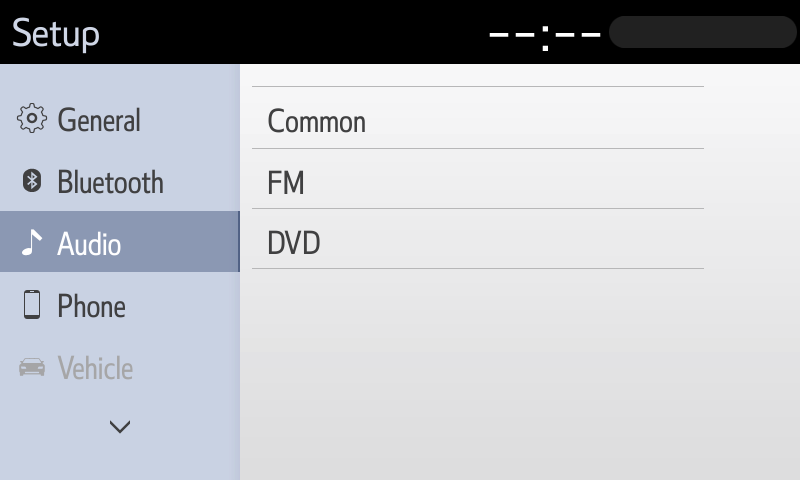touchPart: (254, 78, 706, 154), (250, 205, 708, 276), (253, 149, 709, 214), (6, 162, 177, 197), (17, 286, 137, 332), (9, 102, 149, 133), (108, 409, 133, 444)
untouchPart: (1, 209, 242, 275), (485, 9, 792, 58), (4, 347, 179, 393), (6, 12, 105, 56)
